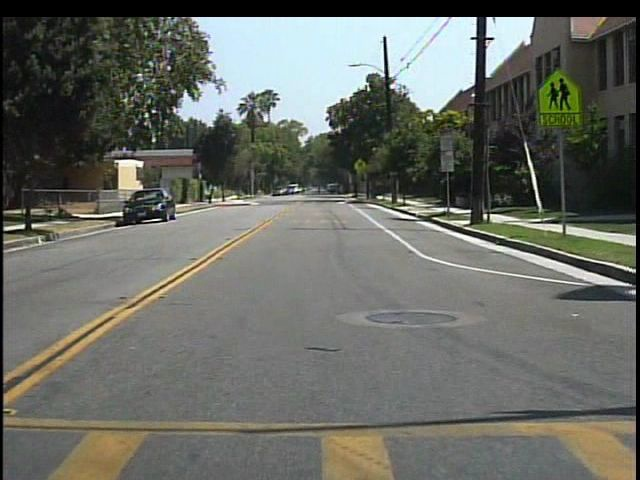person: (312, 179, 326, 197)
